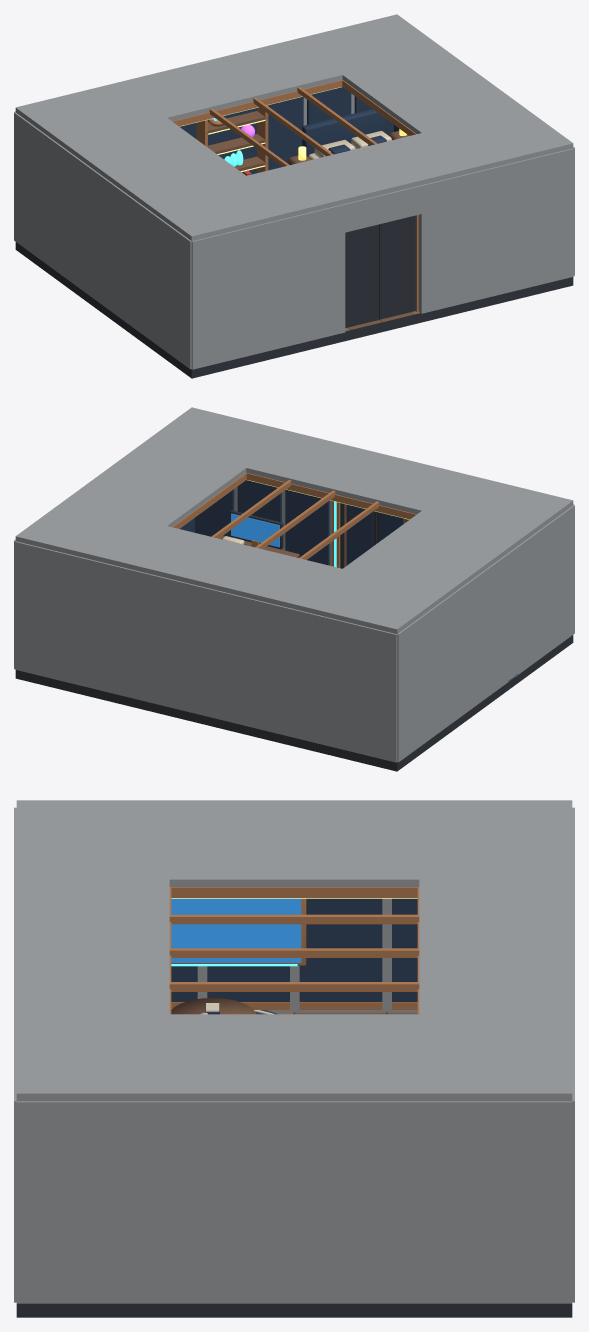
Rendered from captains_quarters_assembled.glb.
The picture shows the model from 3 angles, top to bottom: view 1: azimuth 30°, elevation 25°; view 2: azimuth 150°, elevation 25°; view 3: azimuth 270°, elevation 25°; orthographic projection. The views are drawn at different scales.
Parts seen in each view (by area): view 1: shell_wall, shell_charcoal, entry__door_left_charcoal, shell_copper, shell_navy, entry__door_right_charcoal, bed_navy, display_wood, display_navy, display_copper, bed_cream; view 2: shell_wall, shell_charcoal, shell_navy, shell_copper, entry__door_left_navy, desk_screen; view 3: shell_wall, shell_copper, shell_navy, shell_charcoal, media_screen, coffee_wood.
Boxes of the visible parts, box(x1,y1,x2,y2) form: shell_wall: box(14, 14, 574, 369); shell_charcoal: box(15, 242, 573, 378); entry__door_left_charcoal: box(379, 215, 415, 319); shell_copper: box(172, 80, 416, 166); shell_navy: box(179, 87, 399, 170); entry__door_right_charcoal: box(345, 224, 378, 327); bed_navy: box(302, 109, 386, 156); display_wood: box(206, 111, 267, 171); display_navy: box(208, 108, 256, 174); display_copper: box(196, 105, 268, 172); bed_cream: box(308, 131, 391, 159); shell_wall: box(14, 407, 574, 762); shell_charcoal: box(15, 635, 573, 771); shell_navy: box(180, 480, 329, 565); shell_copper: box(172, 473, 416, 559); entry__door_left_navy: box(342, 503, 373, 568); desk_screen: box(231, 513, 279, 547); shell_wall: box(14, 800, 574, 1303); shell_copper: box(169, 887, 419, 1014); shell_navy: box(171, 898, 417, 1001); shell_charcoal: box(16, 1012, 572, 1317); media_screen: box(171, 898, 301, 962); coffee_wood: box(171, 998, 255, 1014).
Bounding box in the file's own units: 10.11 × 3.56 × 8.08.
